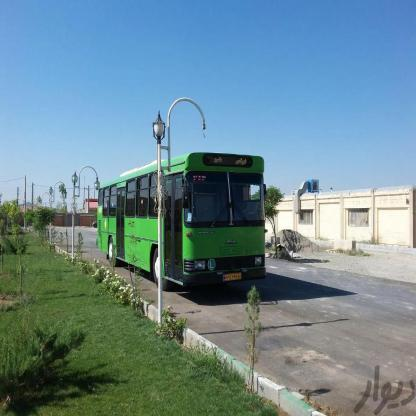Bus: (98, 138, 271, 302)
